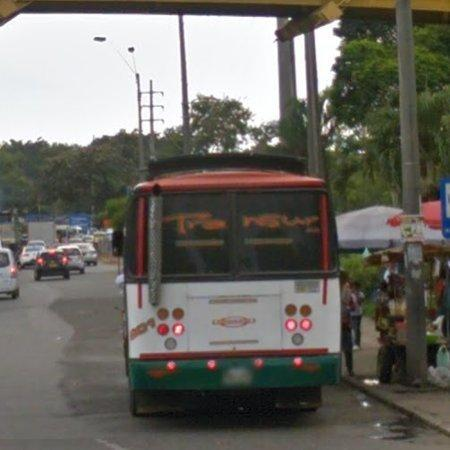buses: (124, 154, 341, 416)
